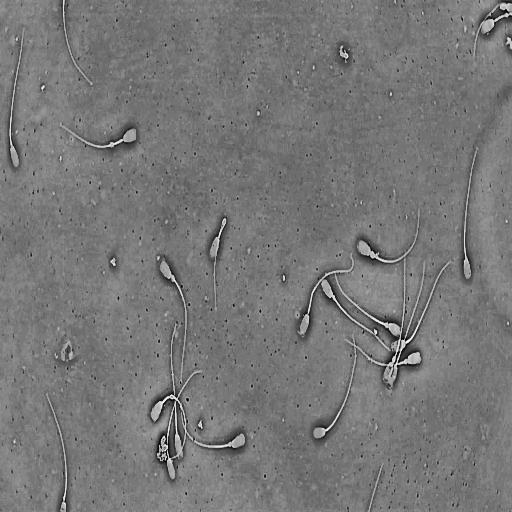dirt-particles: (155, 432, 169, 465), (337, 39, 351, 62), (109, 255, 117, 269)
distal-droplet: (110, 140, 114, 149), (504, 13, 509, 18), (170, 395, 174, 400)
folded-tail: (214, 218, 227, 310)
loose-tail: (59, 0, 96, 92)
normal: (391, 256, 453, 355), (386, 255, 428, 392), (320, 275, 393, 353), (311, 330, 358, 442), (333, 267, 404, 340), (298, 251, 355, 337), (166, 368, 205, 481), (157, 256, 189, 386), (355, 203, 421, 265), (179, 397, 247, 452), (381, 250, 407, 385), (44, 386, 69, 512), (7, 23, 26, 173), (460, 141, 480, 283), (148, 391, 188, 462), (59, 118, 140, 152), (344, 334, 424, 368), (168, 316, 185, 463), (208, 212, 228, 315), (479, 8, 511, 35)
proximal-droplet: (370, 251, 375, 259), (170, 275, 175, 283), (403, 359, 408, 365), (332, 295, 336, 301), (385, 323, 389, 329), (228, 441, 232, 447), (392, 356, 395, 363), (63, 495, 66, 501)
